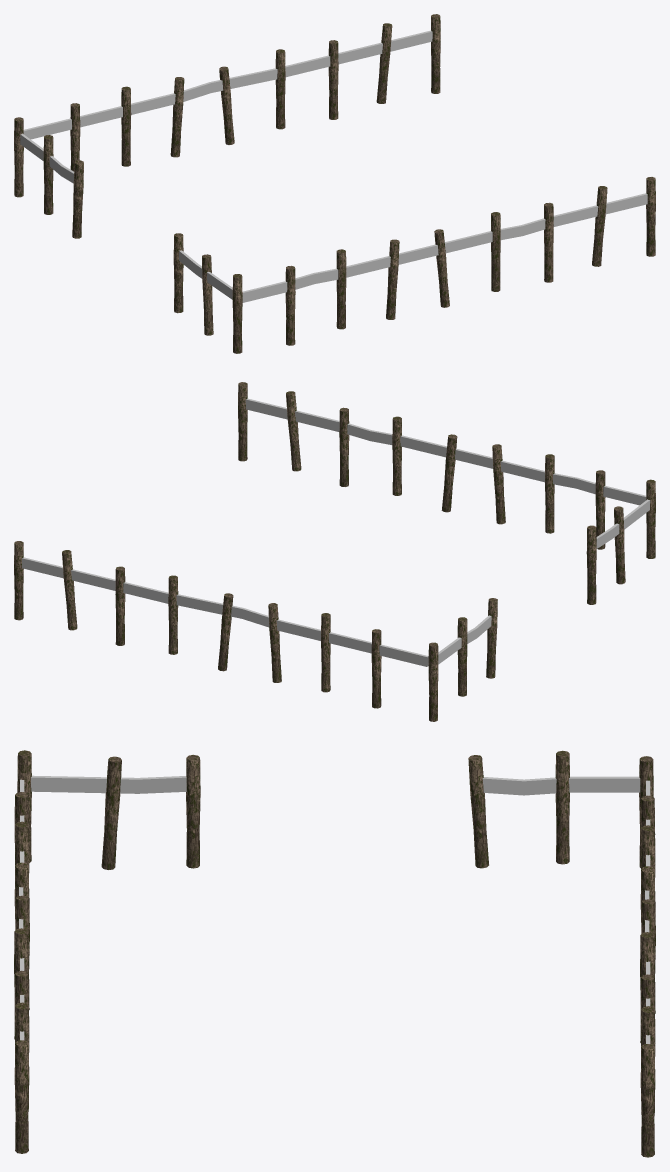
The model's file is fence_basic house.FBX.
3 views of the same model, one above another, from view 1: azimuth 30°, elevation 25°; view 2: azimuth 150°, elevation 25°; view 3: azimuth 270°, elevation 25° (orthographic). The views are drawn at different scales.
Parts seen in each view (by area): view 1: Object825; view 2: Object825; view 3: Object825.
Boxes of the visible parts, x1,y1,x2,y2 form: Object825: (14, 14, 655, 353); Object825: (14, 382, 655, 721); Object825: (14, 750, 655, 1157).
Bounding box in the file's own units: 1033 × 186 × 948.
